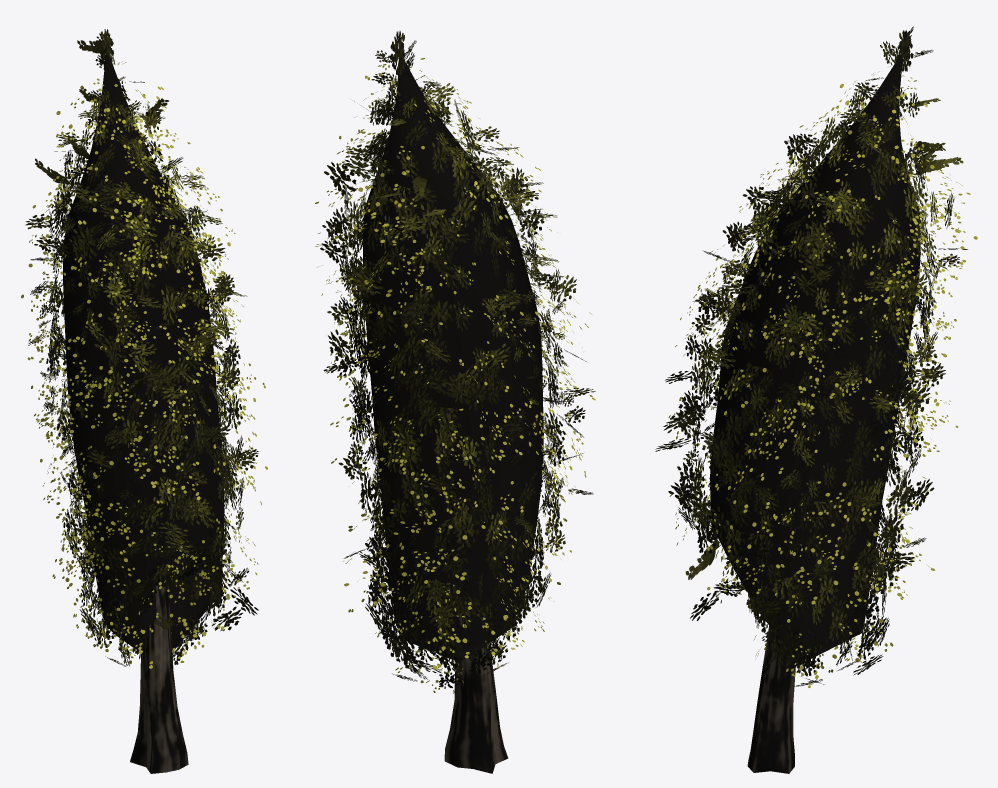
Rendered from CreTree01.glb.
3 renders of one model, left to right at view 1: azimuth 30°, elevation 25°; view 2: azimuth 150°, elevation 25°; view 3: azimuth 270°, elevation 25°, orthographic. The views are drawn at different scales.
Parts seen in each view (by area): view 1: CreTree01_leaves; view 2: CreTree01_leaves; view 3: CreTree01_leaves.
Boxes of the visible parts, left/top/right/bottom form: CreTree01_leaves: left=21, top=29, right=267, bottom=773; CreTree01_leaves: left=315, top=31, right=595, bottom=773; CreTree01_leaves: left=655, top=26, right=977, bottom=773.
Size of the model in its own units: 3.26 by 9.84 by 4.1.
3 materials, 2 textured.
